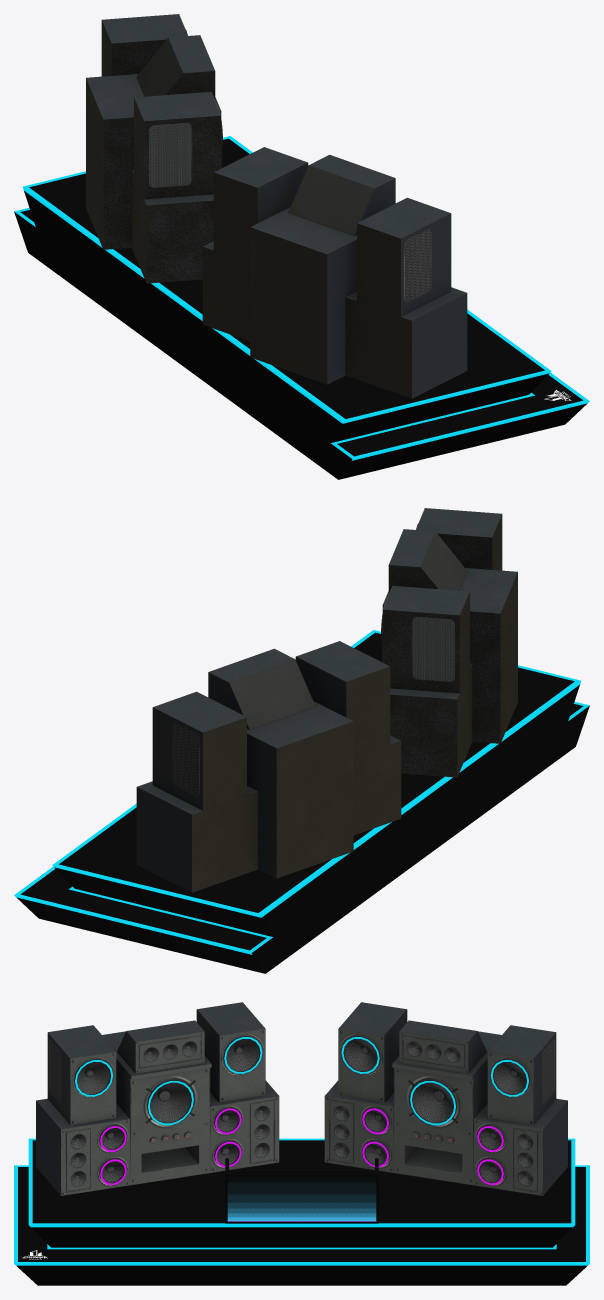
Rendered from DJ booth asset.glb.
The picture shows the model from 3 angles, top to bottom: view 1: azimuth 30°, elevation 25°; view 2: azimuth 150°, elevation 25°; view 3: azimuth 270°, elevation 25°; orthographic projection. The views are drawn at different scales.
Visible parts, largest first — view 1: Mesh_2.004, Mesh_18; view 2: Mesh_2.004, Mesh_18; view 3: Mesh_2.004, Mesh_18, Mesh_19.
Part boxes in pixels (left/top/right/bottom): Mesh_2.004: left=86, top=14, right=467, bottom=398; Mesh_18: left=14, top=136, right=589, bottom=479; Mesh_2.004: left=136, top=508, right=517, bottom=892; Mesh_18: left=14, top=630, right=589, bottom=973; Mesh_2.004: left=36, top=1002, right=567, bottom=1195; Mesh_18: left=14, top=1138, right=589, bottom=1285; Mesh_19: left=225, top=1158, right=378, bottom=1223.
Size of what is drawn, in the model's own units: 5.05 by 4.55 by 12.04.
6 materials, 2 textured.
